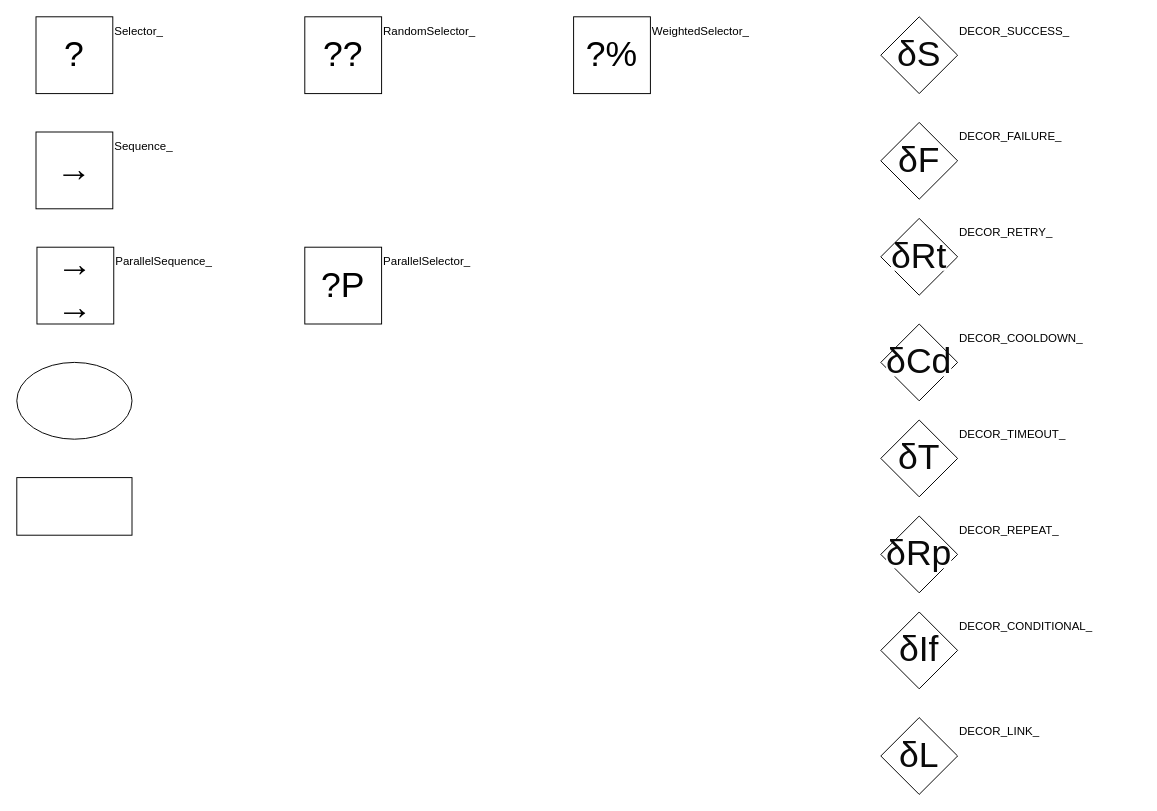
The diagram is 1157 pixels wide and 811 high, and some of its shapes have lost their labels. The box of each missing label's shape, as (x1, y1, x2, y2) in pixels:
ActionNode: (16, 477, 132, 535)
ConditionNode: (16, 361, 132, 439)
